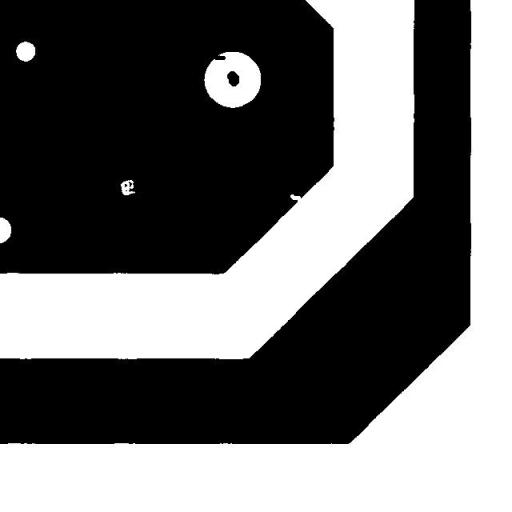copper: (220, 63, 246, 94)
mousebite: (282, 186, 309, 210)
pin-hole: (113, 172, 142, 202)
spur: (205, 47, 233, 67)
